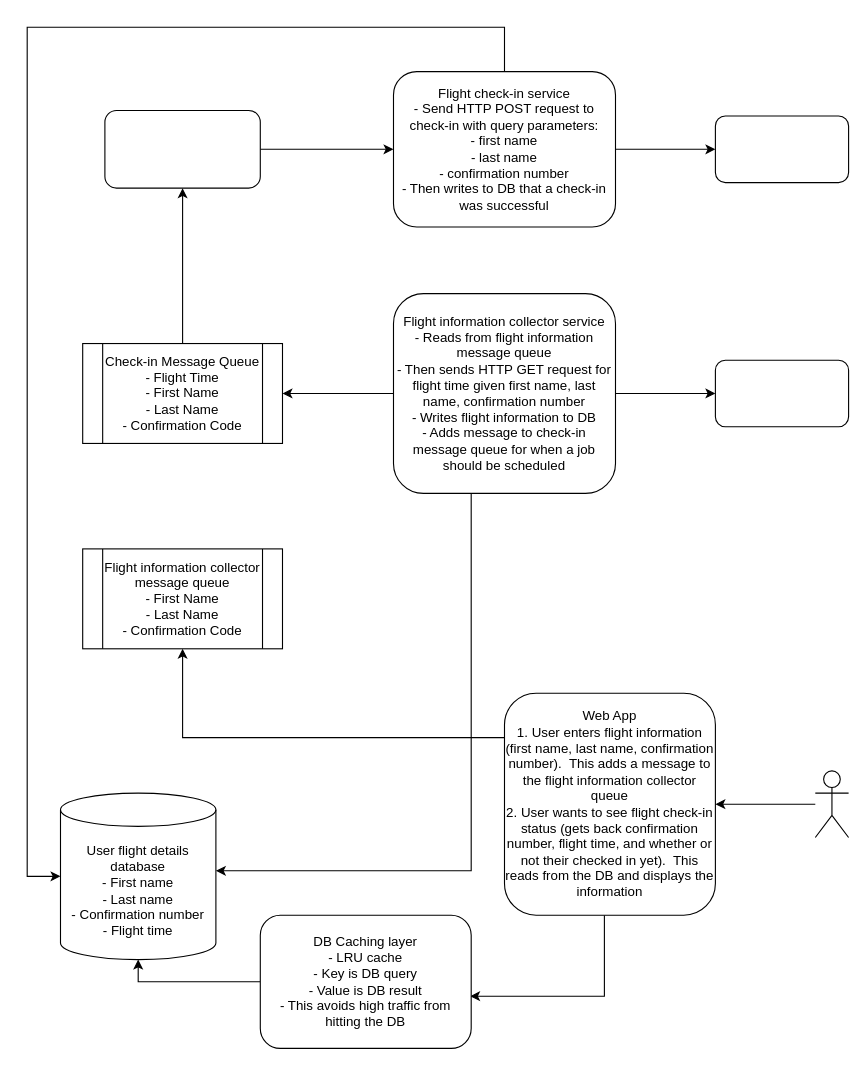
Image size: 868x1068. Some labels were removed from this diagram. The shapes that lost their labels are listed below. From the top down, each one's centre as x and y in pixels, then its label:
At pixel 182 148: "Job scheduler - Kicks off flight check-in service at a given time".
At pixel 781 149: "Southwest Airlines Flight Check-In API".
At pixel 781 393: "Southwest Airlines Flight Information API".
At pixel 831 803: "User".
